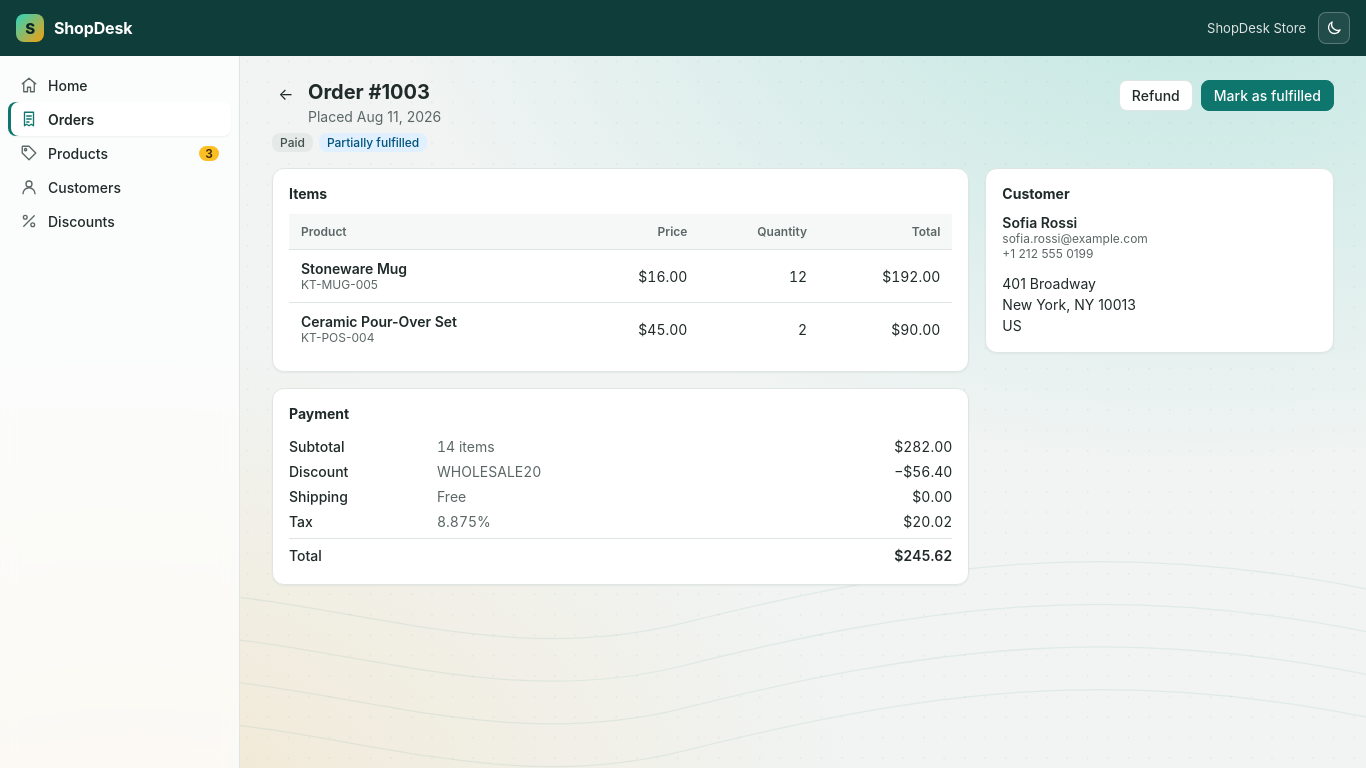
Scenario: refunding an order › includes the item's share of the discount
The image size is (1366, 768).
Click the button "Refund".
click(1156, 96)  # box x1=1119 y1=80 x2=1193 y2=111
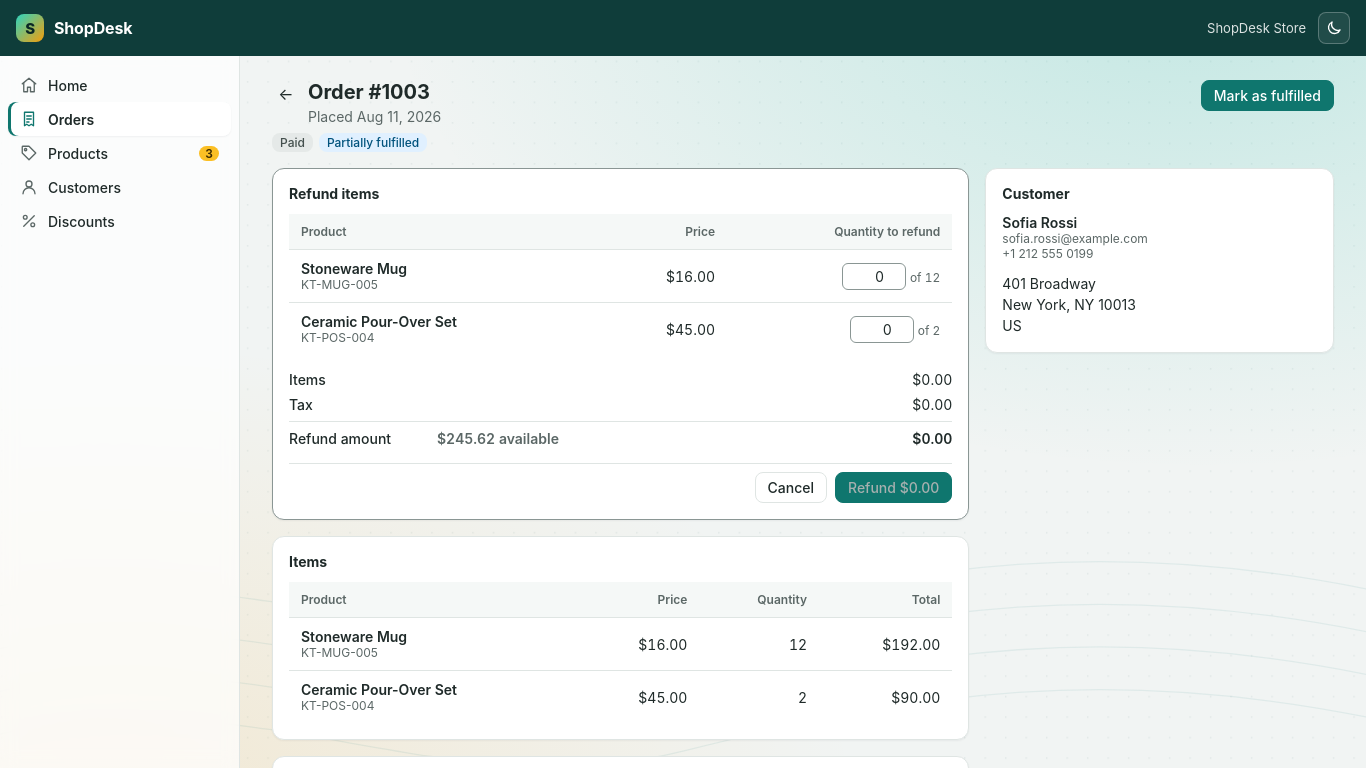
Replace the text in the number field named "Quantity of Stoneware Mug to refund" with "2" at (874, 276), box x1=842 y1=262 x2=906 y2=290
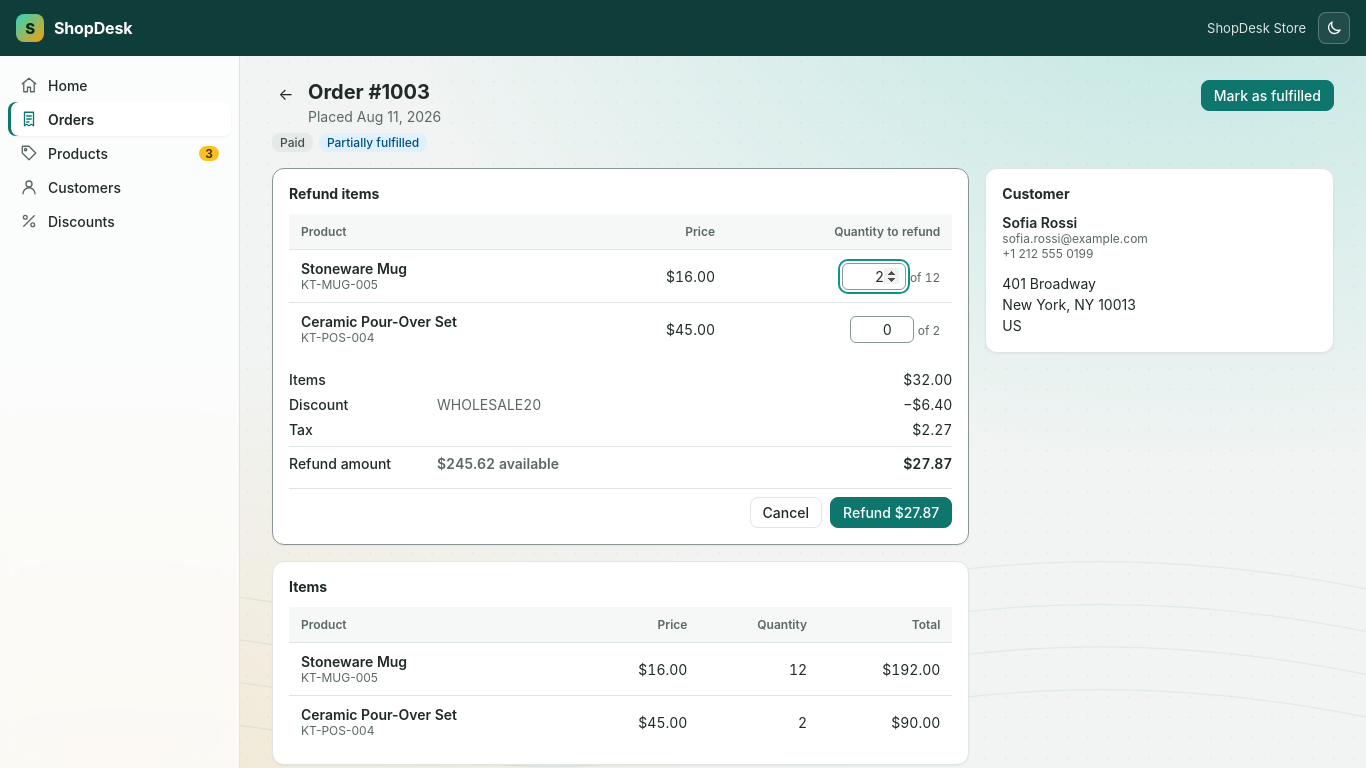
Check: the text "WHOLESALE20" is shown, box x1=437 y1=396 x2=541 y2=413
Check: the text "−$6.40" is shown, box x1=903 y1=396 x2=952 y2=413
Check: the button "Refund $27.87" is enabled, box x1=830 y1=497 x2=952 y2=528
